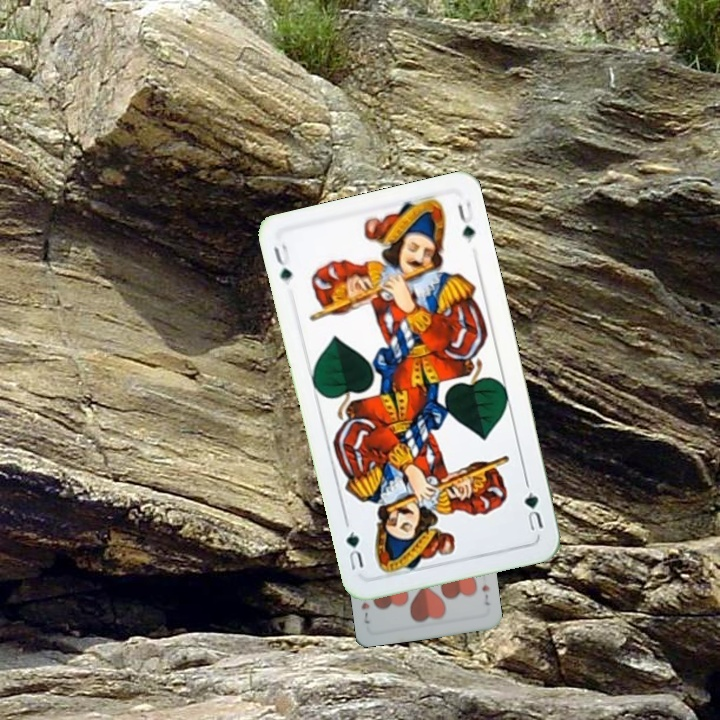GU: (520, 487, 546, 534), (269, 239, 295, 283)
H7: (478, 581, 492, 608)
